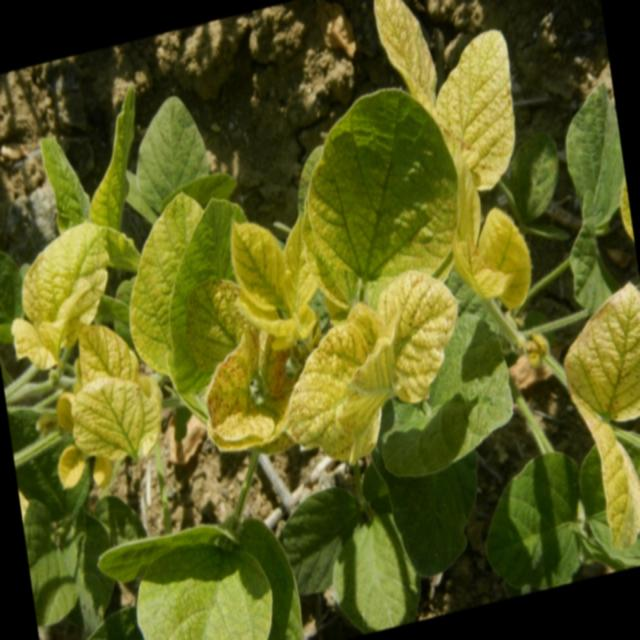Chlorosis: (22, 17, 640, 607)
